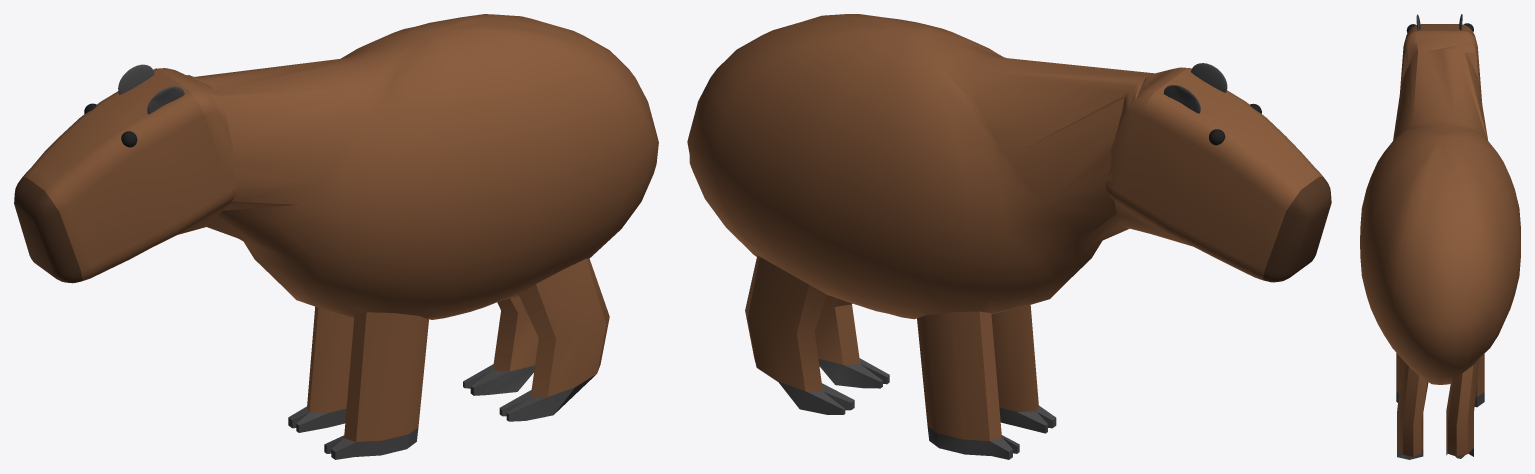
File: capibara.fbx
The picture shows the model from 3 angles, left to right: view 1: azimuth 30°, elevation 25°; view 2: azimuth 150°, elevation 25°; view 3: azimuth 270°, elevation 25°; orthographic projection. The views are drawn at different scales.
Parts seen in each view (by area): view 1: CuerpoC, IzqDelantera, IzqTrasera, DerDelantera, DerTrasera; view 2: CuerpoC, DerDelantera, DerTrasera, IzqDelantera, IzqTrasera; view 3: CuerpoC, IzqTrasera, DerTrasera, DerDelantera, IzqDelantera.
Part boxes in pixels (box(x1,y1,x2,y2)): CuerpoC: box(14, 14, 658, 319); IzqDelantera: box(324, 312, 428, 459); IzqTrasera: box(499, 258, 609, 421); DerDelantera: box(288, 306, 354, 432); DerTrasera: box(463, 296, 538, 395); CuerpoC: box(687, 14, 1331, 319); DerDelantera: box(917, 311, 1019, 459); DerTrasera: box(745, 255, 854, 414); IzqDelantera: box(991, 305, 1056, 433); IzqTrasera: box(814, 295, 889, 388); CuerpoC: box(1360, 14, 1520, 384); IzqTrasera: box(1397, 360, 1428, 459); DerTrasera: box(1446, 358, 1479, 458); DerDelantera: box(1474, 353, 1484, 407); IzqDelantera: box(1396, 353, 1402, 402).
Size of the model in its own units: 153 by 95.28 by 45.39.
